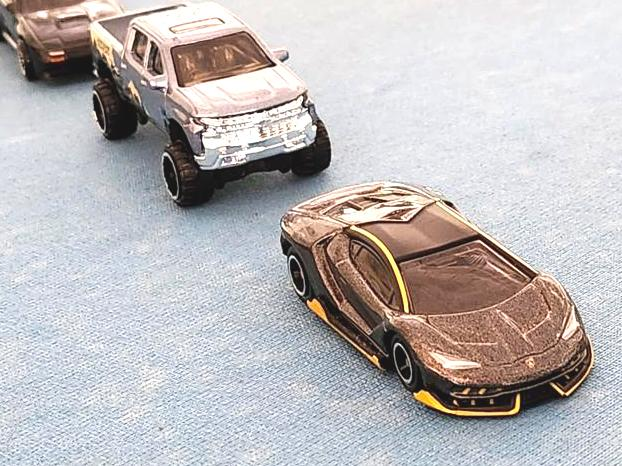toy-car: (280, 182, 595, 419), (90, 3, 331, 207), (0, 0, 127, 81)
